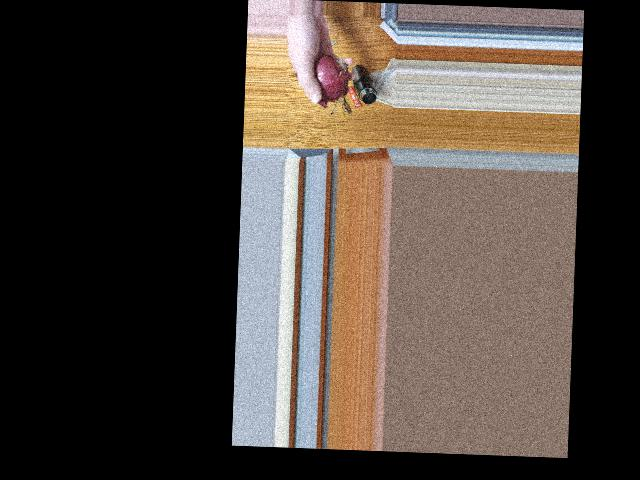onion: (307, 54, 348, 97)
